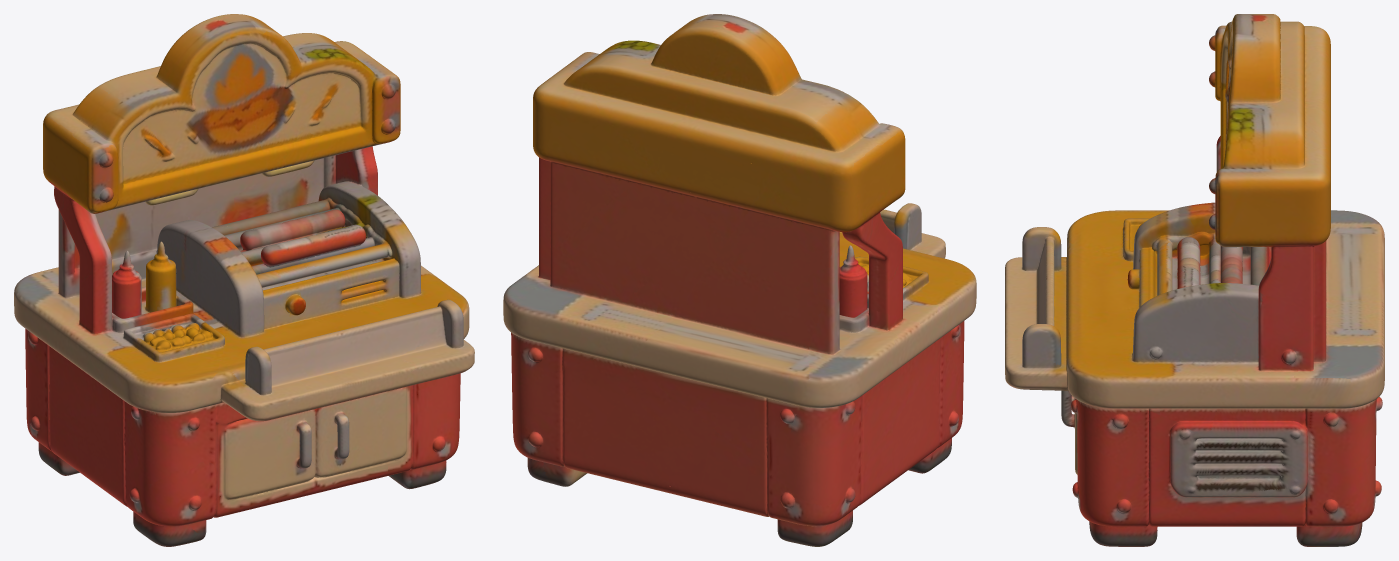
File: tripo_convert_47fe7304-4525-4d5f-8878-44322b6f3d2d.glb
3 views of the same model, side by side, from view 1: azimuth 30°, elevation 25°; view 2: azimuth 150°, elevation 25°; view 3: azimuth 270°, elevation 25° (orthographic). The views are drawn at different scales.
Parts seen in each view (by area): view 1: tripo_node_47fe7304-4525-4d5f-8878-44322b6f3d2d; view 2: tripo_node_47fe7304-4525-4d5f-8878-44322b6f3d2d; view 3: tripo_node_47fe7304-4525-4d5f-8878-44322b6f3d2d.
Part boxes in pixels (x1,y1,x2,y2): tripo_node_47fe7304-4525-4d5f-8878-44322b6f3d2d: [14, 14, 474, 546]; tripo_node_47fe7304-4525-4d5f-8878-44322b6f3d2d: [503, 14, 976, 546]; tripo_node_47fe7304-4525-4d5f-8878-44322b6f3d2d: [1005, 14, 1384, 546].
Bounding box in the file's own units: 0.8075 × 1 × 0.7556.
Materials: 1 (1 with a texture image).
